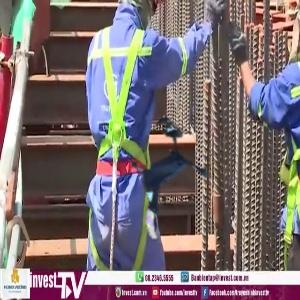drone: (117, 135, 221, 239)
